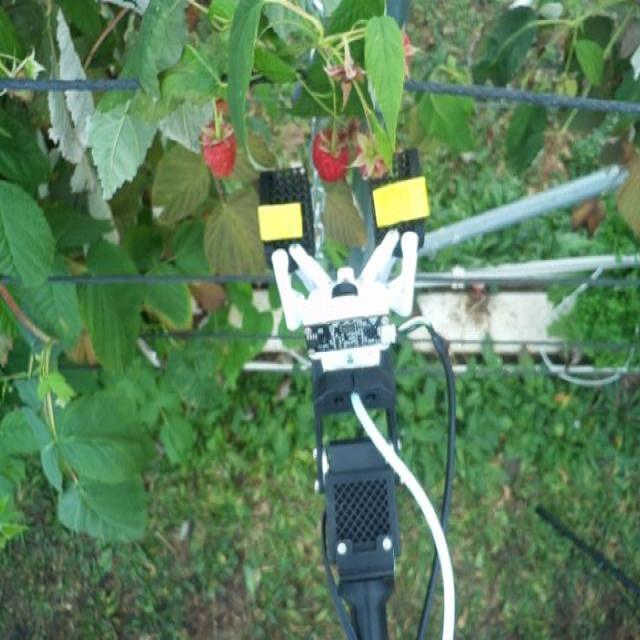Riped berries: (198, 116, 238, 179), (310, 123, 350, 182), (356, 130, 390, 178)
